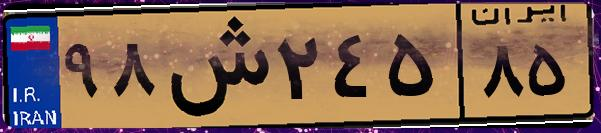2: (270, 28, 330, 110)
4: (330, 28, 385, 110)
5: (385, 28, 445, 110), (525, 38, 570, 115)
8: (475, 38, 525, 113), (110, 28, 158, 98)
9: (57, 26, 110, 100)
ش: (158, 12, 270, 120)
